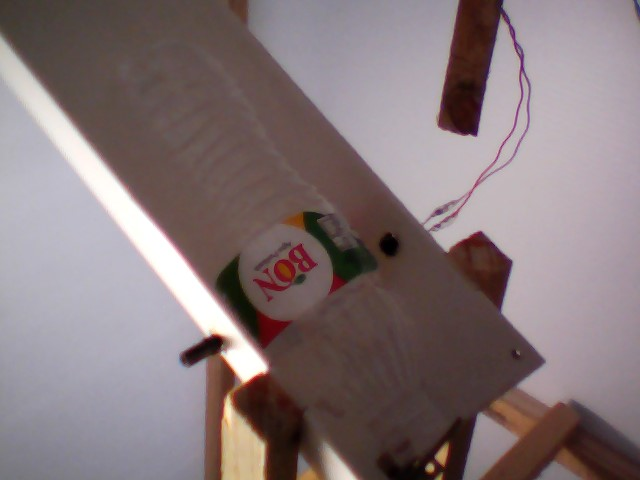plastico: (62, 24, 465, 467)
